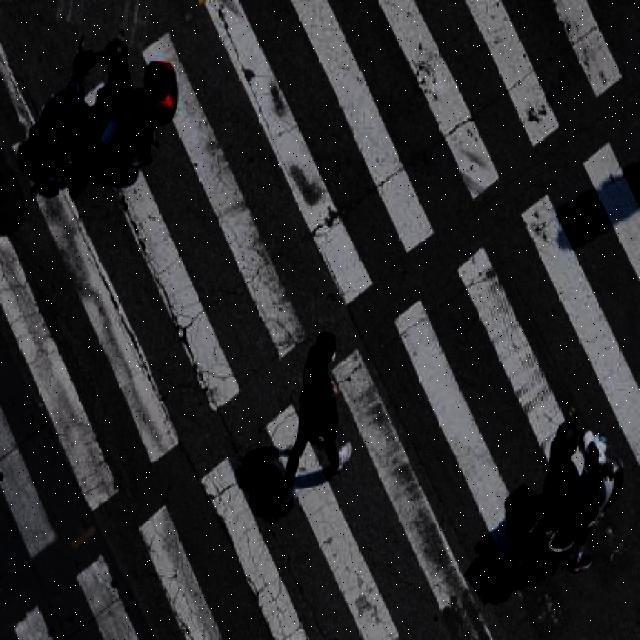Pedestrian crosswalk: (0, 0, 633, 638)
